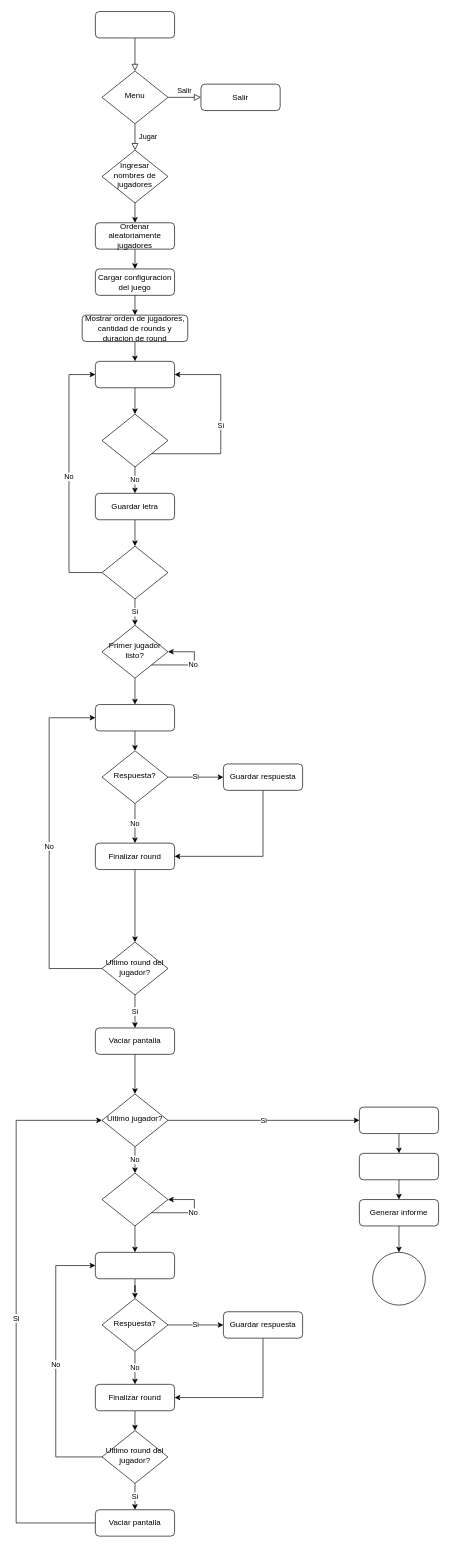
This 450x1548 diagram has some shape labels left out. Here are the shapes that lost their labels. From the top down, the centre of each, then its label:
At (x=135, y=24): "Inicio".
At (x=135, y=374): "Seleccionar letra aleatoria".
At (x=134, y=440): "Letra repetida?".
At (x=134, y=572): "Cant letras == cant rondas?".
At (x=135, y=717): "Iniciar round con n-esima letra".
At (x=399, y=1120): "Determinar ganador".
At (x=399, y=1166): "Mostrar ganador, mostrar su puntaje".
At (x=134, y=1199): "Siguiente jugador listo?".
At (x=135, y=1265): "Iniciar ronda con n-esima letra".
At (x=398, y=1278): "Fin".
